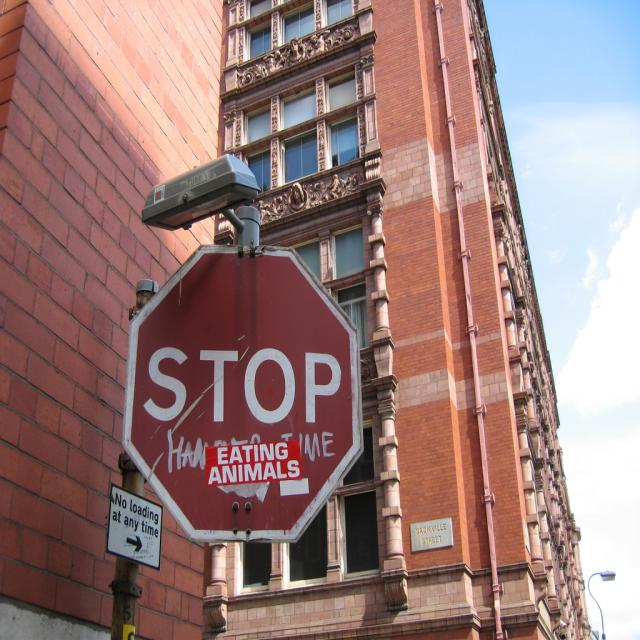Stop-sign: (120, 242, 364, 544)
